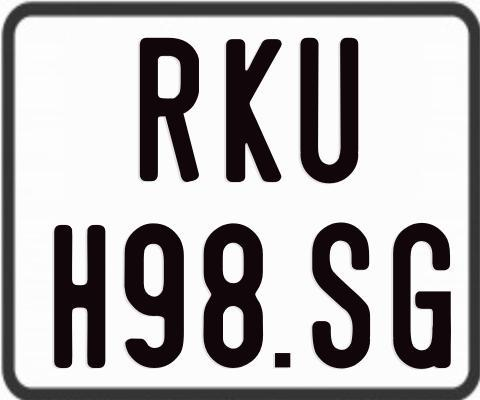8: (203, 222, 265, 368)
9: (124, 220, 187, 368)
G: (390, 220, 448, 370)
H: (51, 222, 107, 366)
K: (225, 37, 286, 181)
R: (139, 38, 201, 182)
S: (309, 222, 371, 368)
U: (298, 35, 360, 182)
